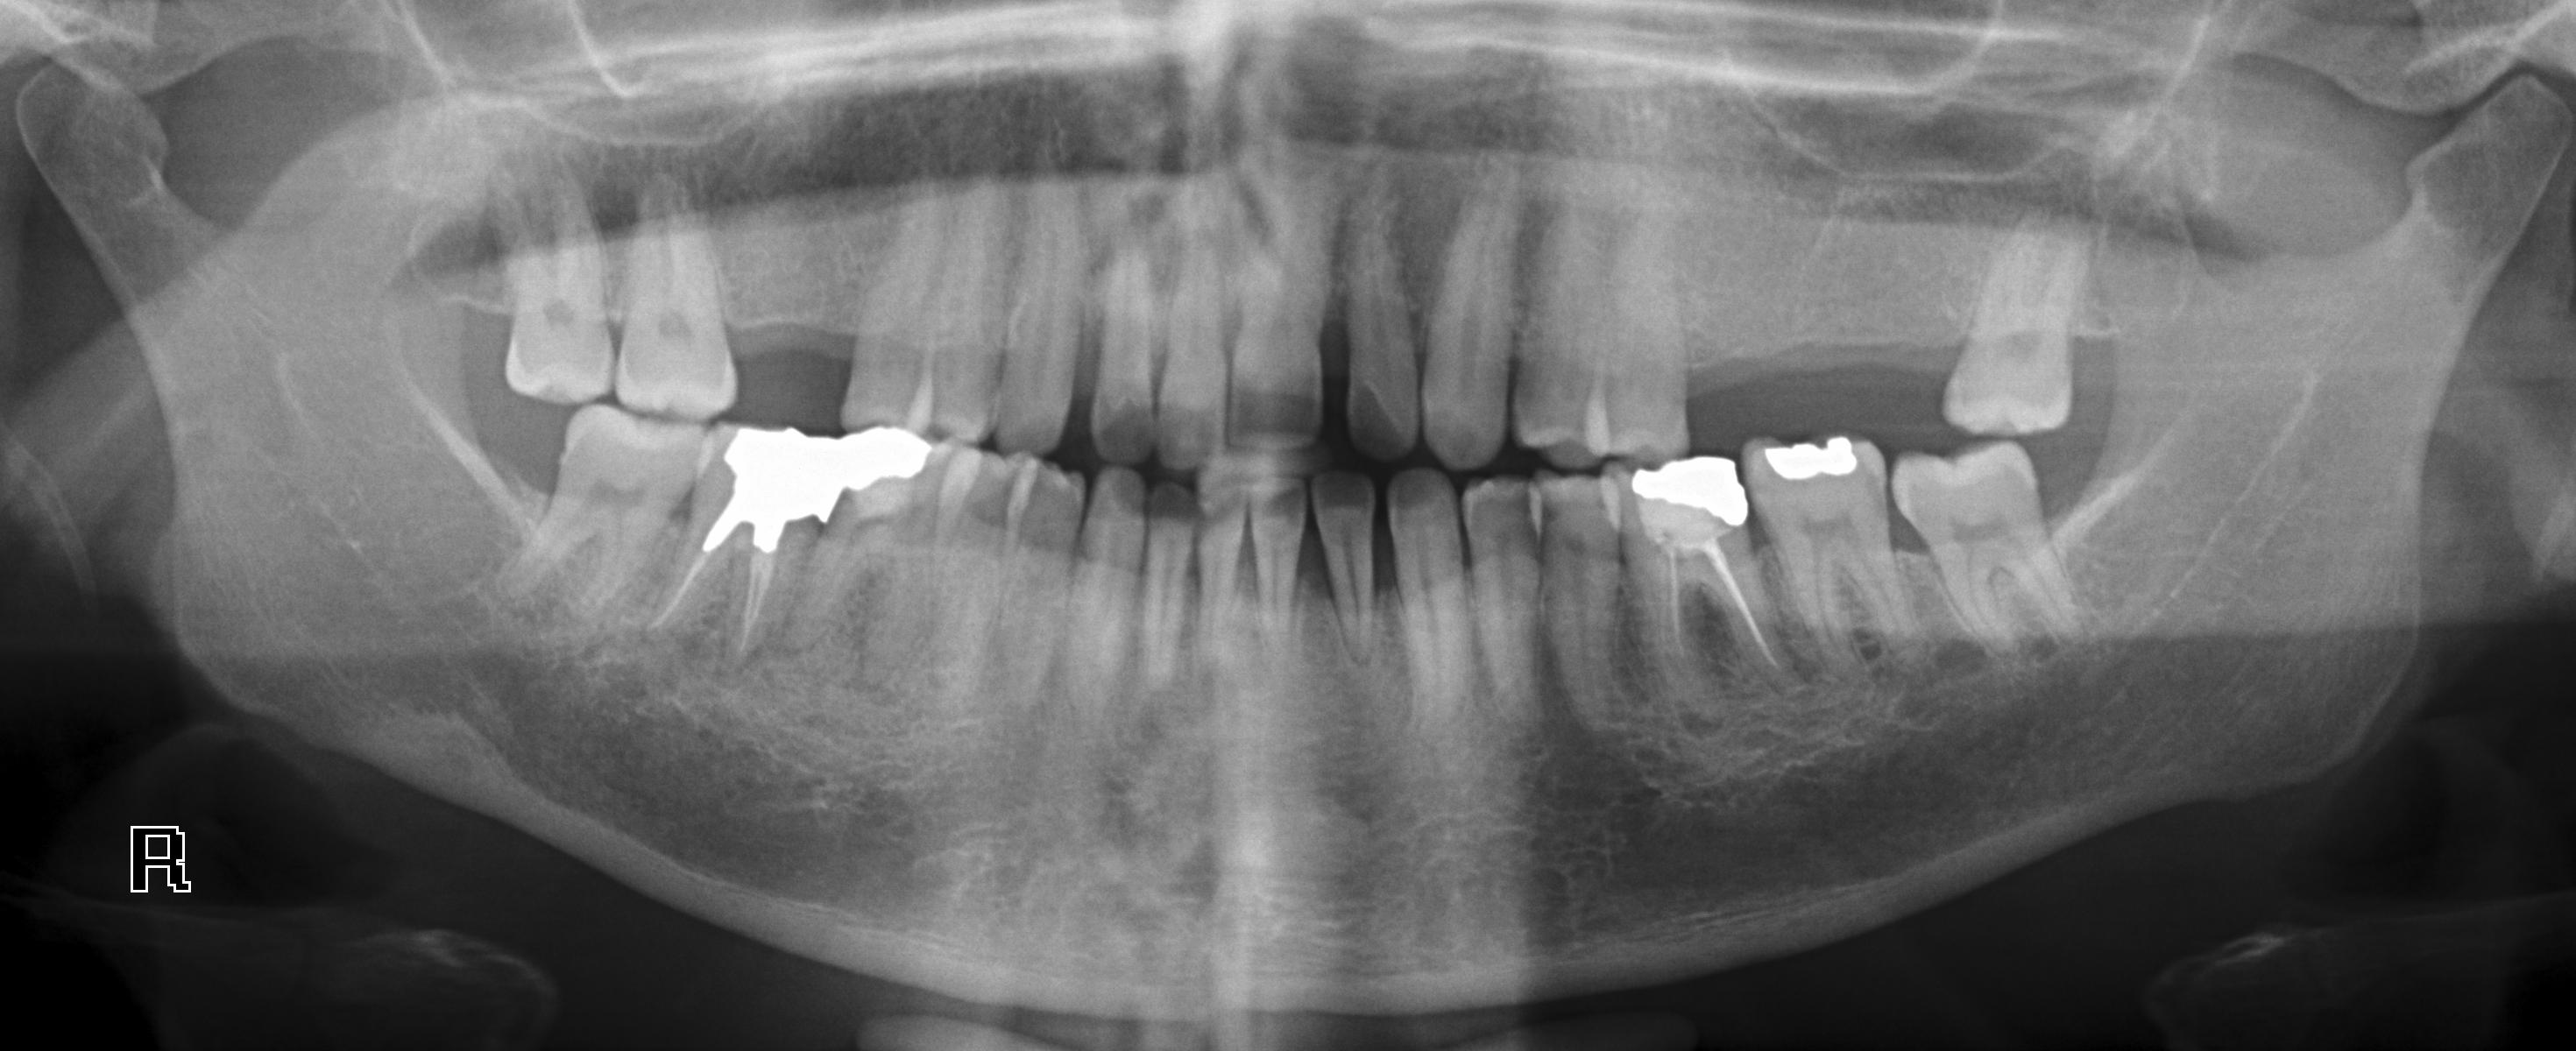Çürük: (718, 429, 831, 519), (1630, 448, 1745, 529), (838, 429, 933, 484), (1763, 435, 1866, 481)
